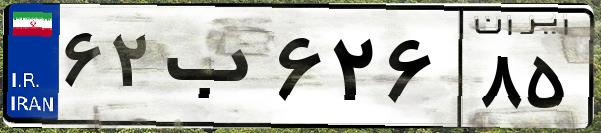2: (330, 28, 385, 110), (110, 28, 158, 98)
5: (525, 38, 570, 115)
6: (270, 28, 330, 110), (385, 28, 445, 110), (57, 26, 110, 100)
8: (475, 38, 525, 113)
ب: (158, 20, 270, 120)
